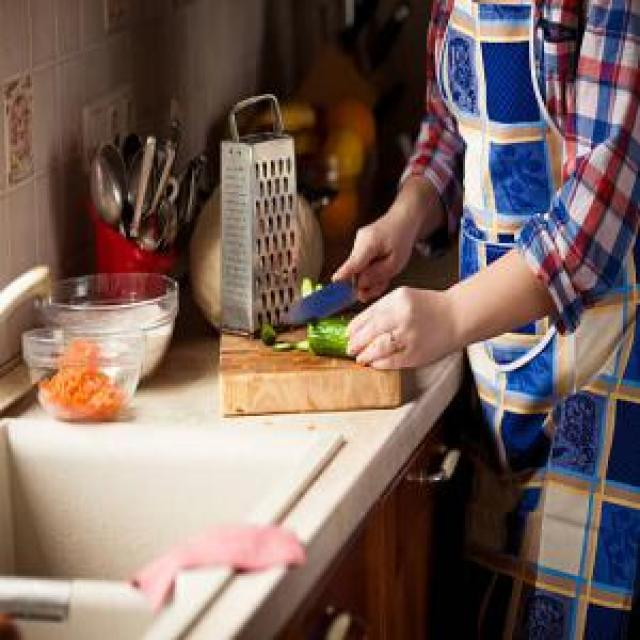knife: (275, 250, 402, 328)
